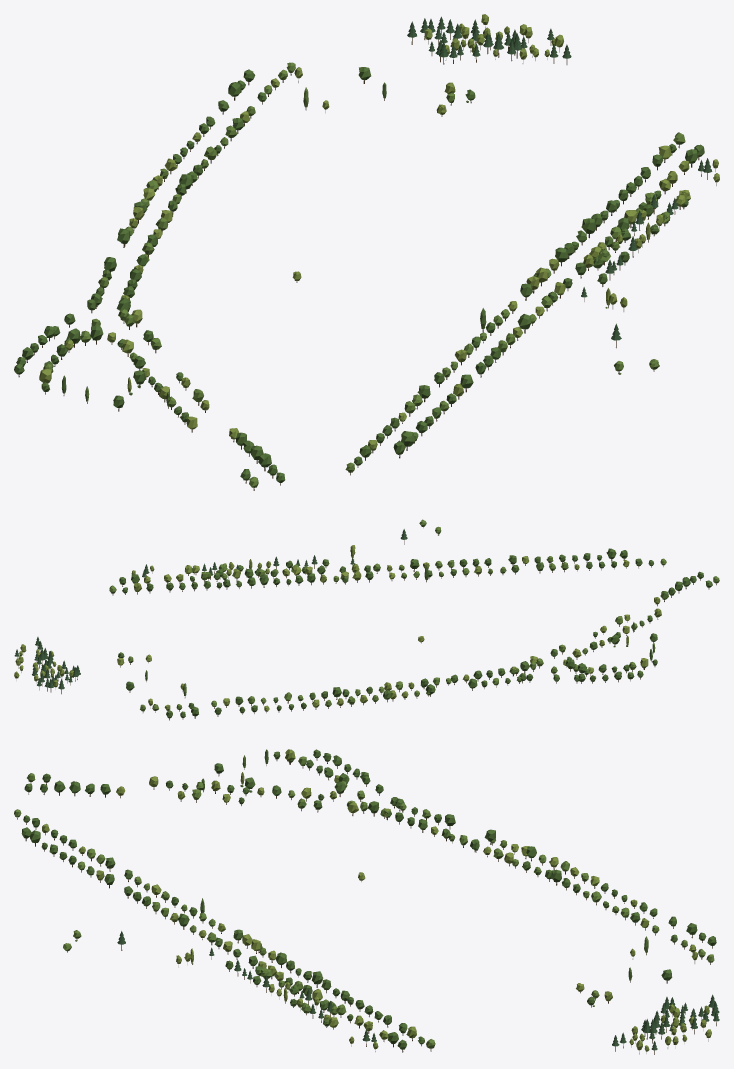
Rendered from Natura_1_0.fbx.
The picture shows the model from 3 angles, top to bottom: view 1: azimuth 30°, elevation 25°; view 2: azimuth 150°, elevation 25°; view 3: azimuth 270°, elevation 25°; orthographic projection. The views are drawn at different scales.
Size of the model in its own units: 502 by 17.14 by 504.
